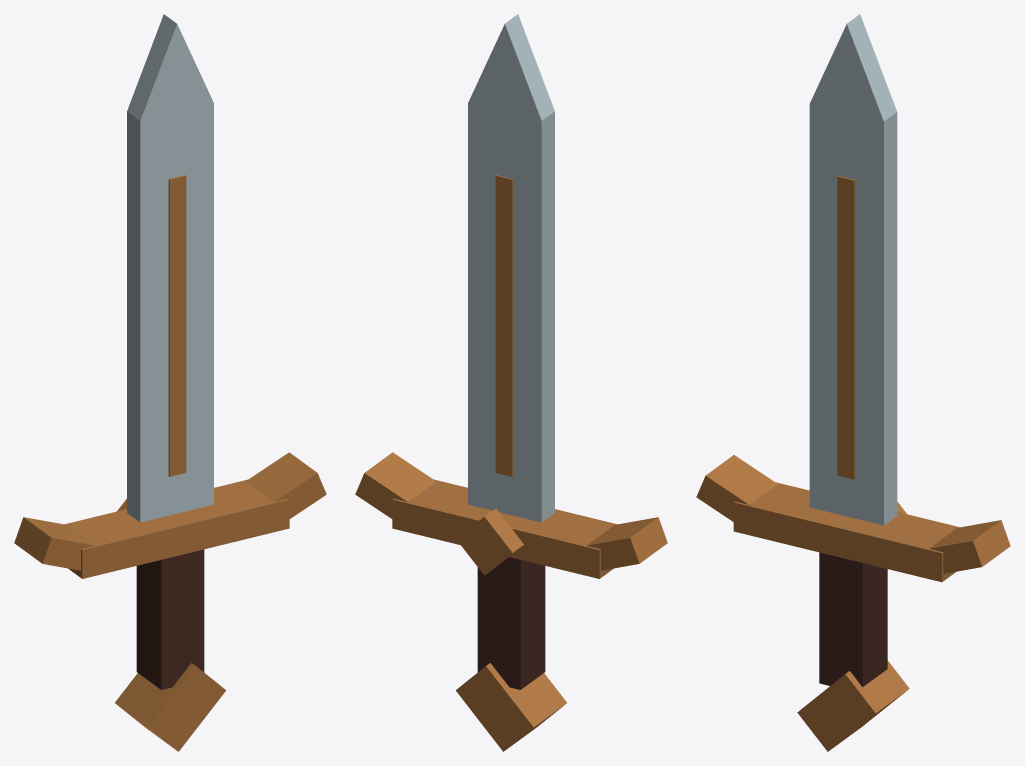
The model's file is watchblade.glb.
3 renders of one model, left to right at view 1: azimuth 30°, elevation 25°; view 2: azimuth 150°, elevation 25°; view 3: azimuth 330°, elevation 25°, orthographic.
Parts seen in each view (by area): view 1: watchblade; view 2: watchblade; view 3: watchblade.
Boxes of the visible parts, left/top/right/bottom form: watchblade: left=14, top=14, right=326, bottom=751; watchblade: left=355, top=14, right=667, bottom=751; watchblade: left=696, top=14, right=1010, bottom=751.
Bounding box in the file's own units: 1.85 × 4.47 × 0.495.
